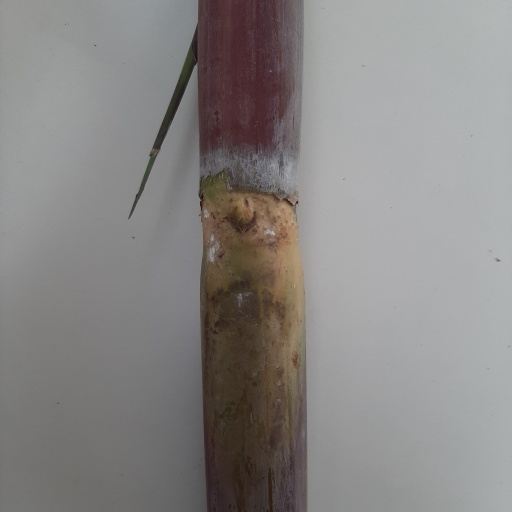Bud: (226, 197, 260, 235)
